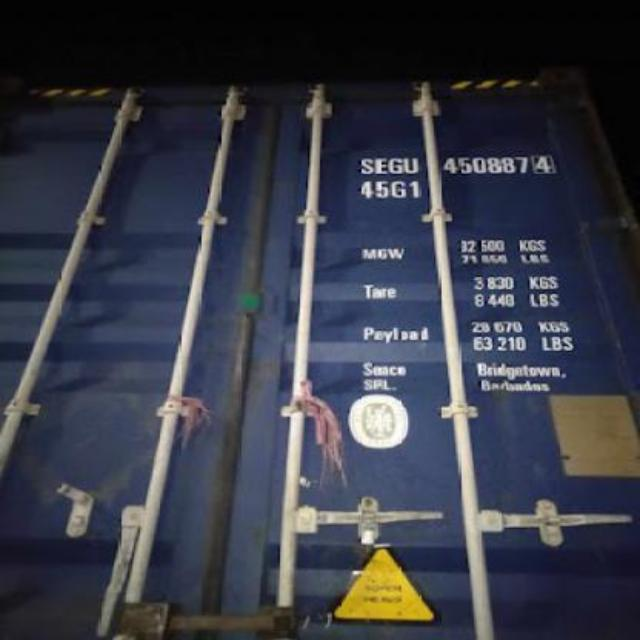0: (474, 157, 488, 175)
4: (444, 157, 458, 175), (538, 156, 550, 174)
5: (458, 157, 474, 175)
7: (516, 154, 532, 174)
8: (488, 157, 500, 175), (504, 156, 516, 174)
E: (374, 157, 390, 175)
G: (388, 156, 404, 177)
S: (358, 156, 374, 174)
U: (404, 156, 418, 174)
